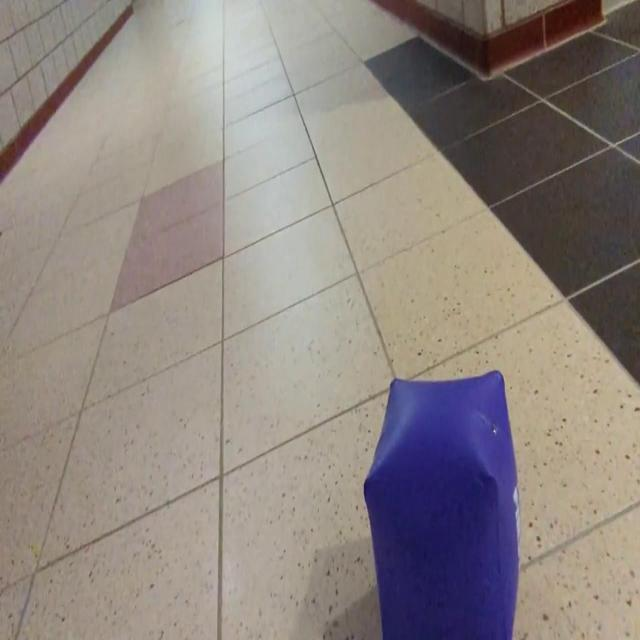frc_cube: (362, 370, 522, 640)
